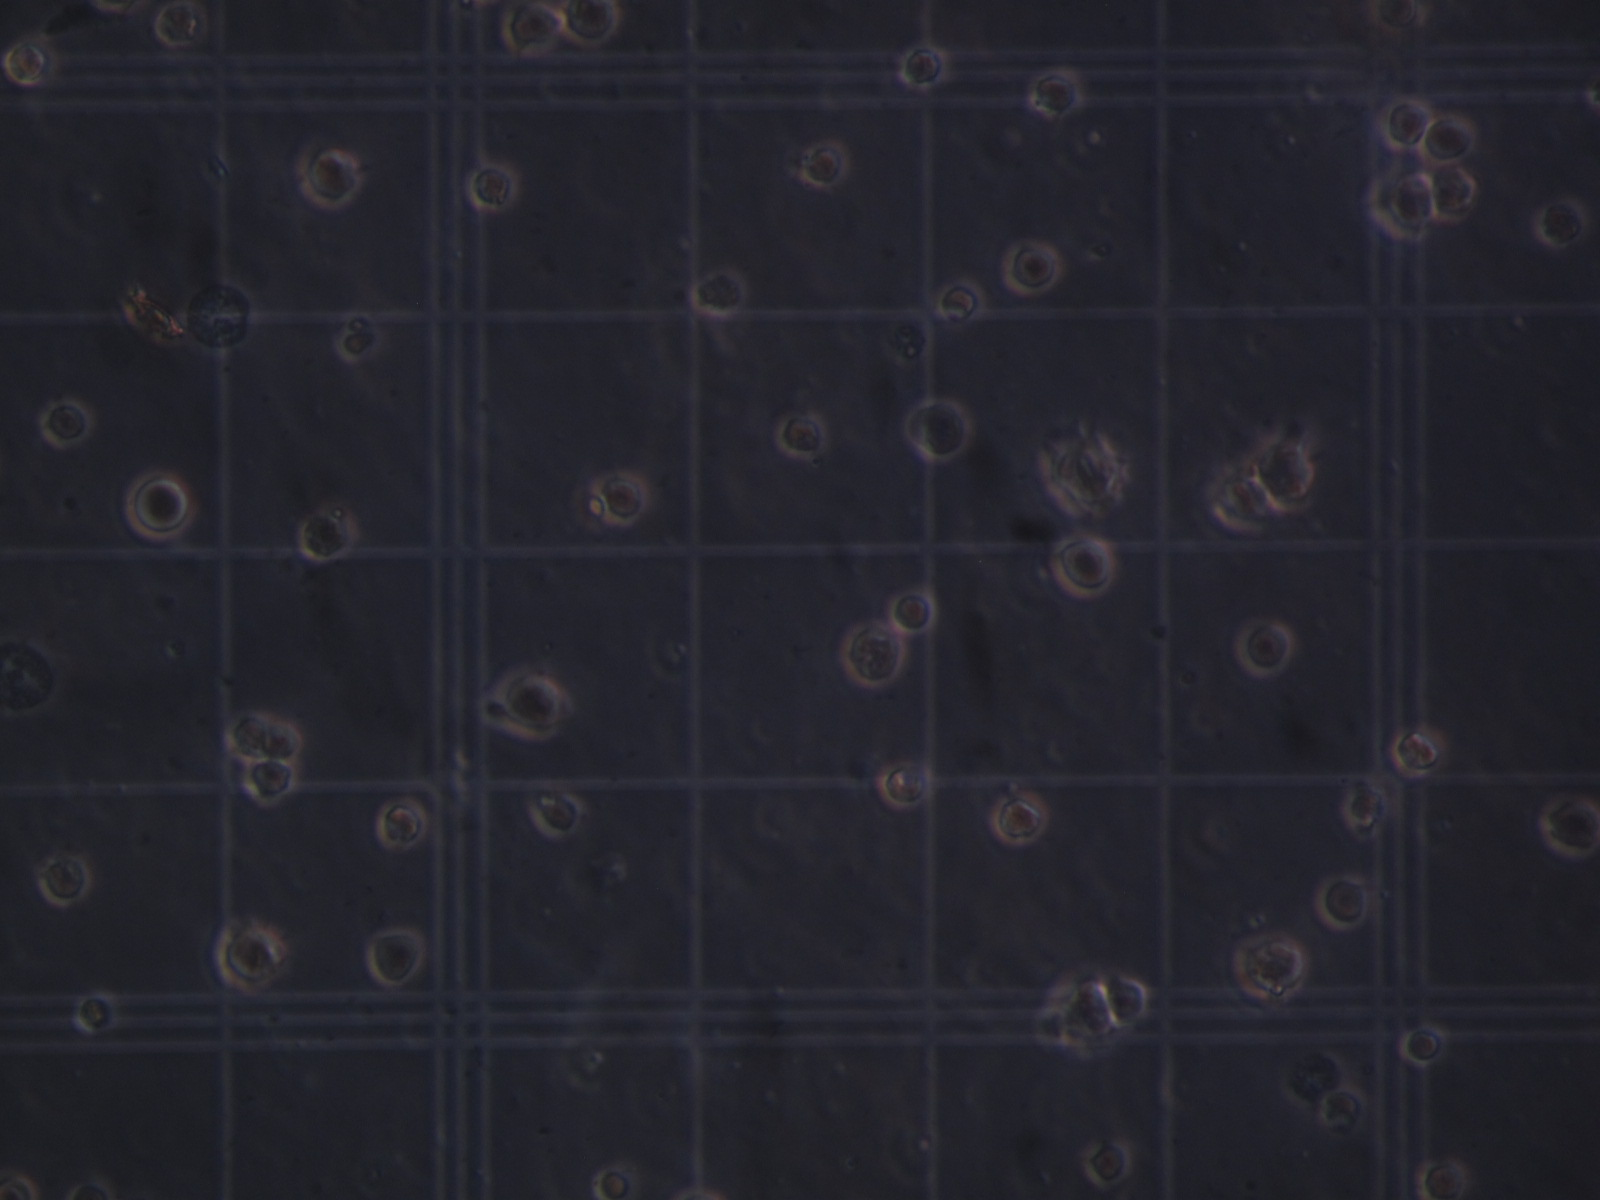hemo: (1041, 440, 1129, 521), (213, 918, 286, 992), (1366, 166, 1437, 242), (496, 668, 564, 740), (1233, 935, 1304, 1002), (127, 471, 191, 543), (296, 141, 363, 208), (842, 620, 907, 688), (1053, 536, 1117, 599), (1540, 792, 1597, 861), (908, 400, 970, 460), (1231, 618, 1293, 677), (1259, 441, 1317, 504), (590, 466, 648, 528), (1214, 474, 1277, 529), (991, 789, 1049, 848), (367, 929, 426, 986), (35, 853, 93, 908), (504, 3, 564, 54), (528, 785, 585, 839), (1067, 982, 1120, 1037), (1005, 239, 1060, 292), (1317, 876, 1368, 932), (299, 511, 357, 560), (1534, 197, 1585, 250), (1430, 166, 1478, 222), (467, 163, 518, 214), (377, 800, 430, 850), (690, 268, 746, 315), (38, 402, 94, 447), (1028, 66, 1080, 115), (564, 1, 621, 45), (889, 587, 940, 635), (1424, 116, 1475, 163), (1393, 731, 1445, 778), (775, 415, 826, 460), (246, 760, 295, 805), (1086, 1139, 1136, 1184), (801, 140, 847, 188), (901, 44, 949, 89), (881, 764, 929, 808), (1417, 1160, 1469, 1200), (154, 3, 202, 45), (1386, 100, 1429, 147), (1107, 976, 1148, 1026), (226, 711, 270, 756), (3, 43, 49, 84), (73, 993, 118, 1034), (1322, 1088, 1364, 1129), (940, 284, 981, 321), (1402, 1030, 1443, 1064), (1348, 792, 1385, 828), (591, 1168, 634, 1199), (265, 725, 302, 759), (1, 1171, 40, 1200)
